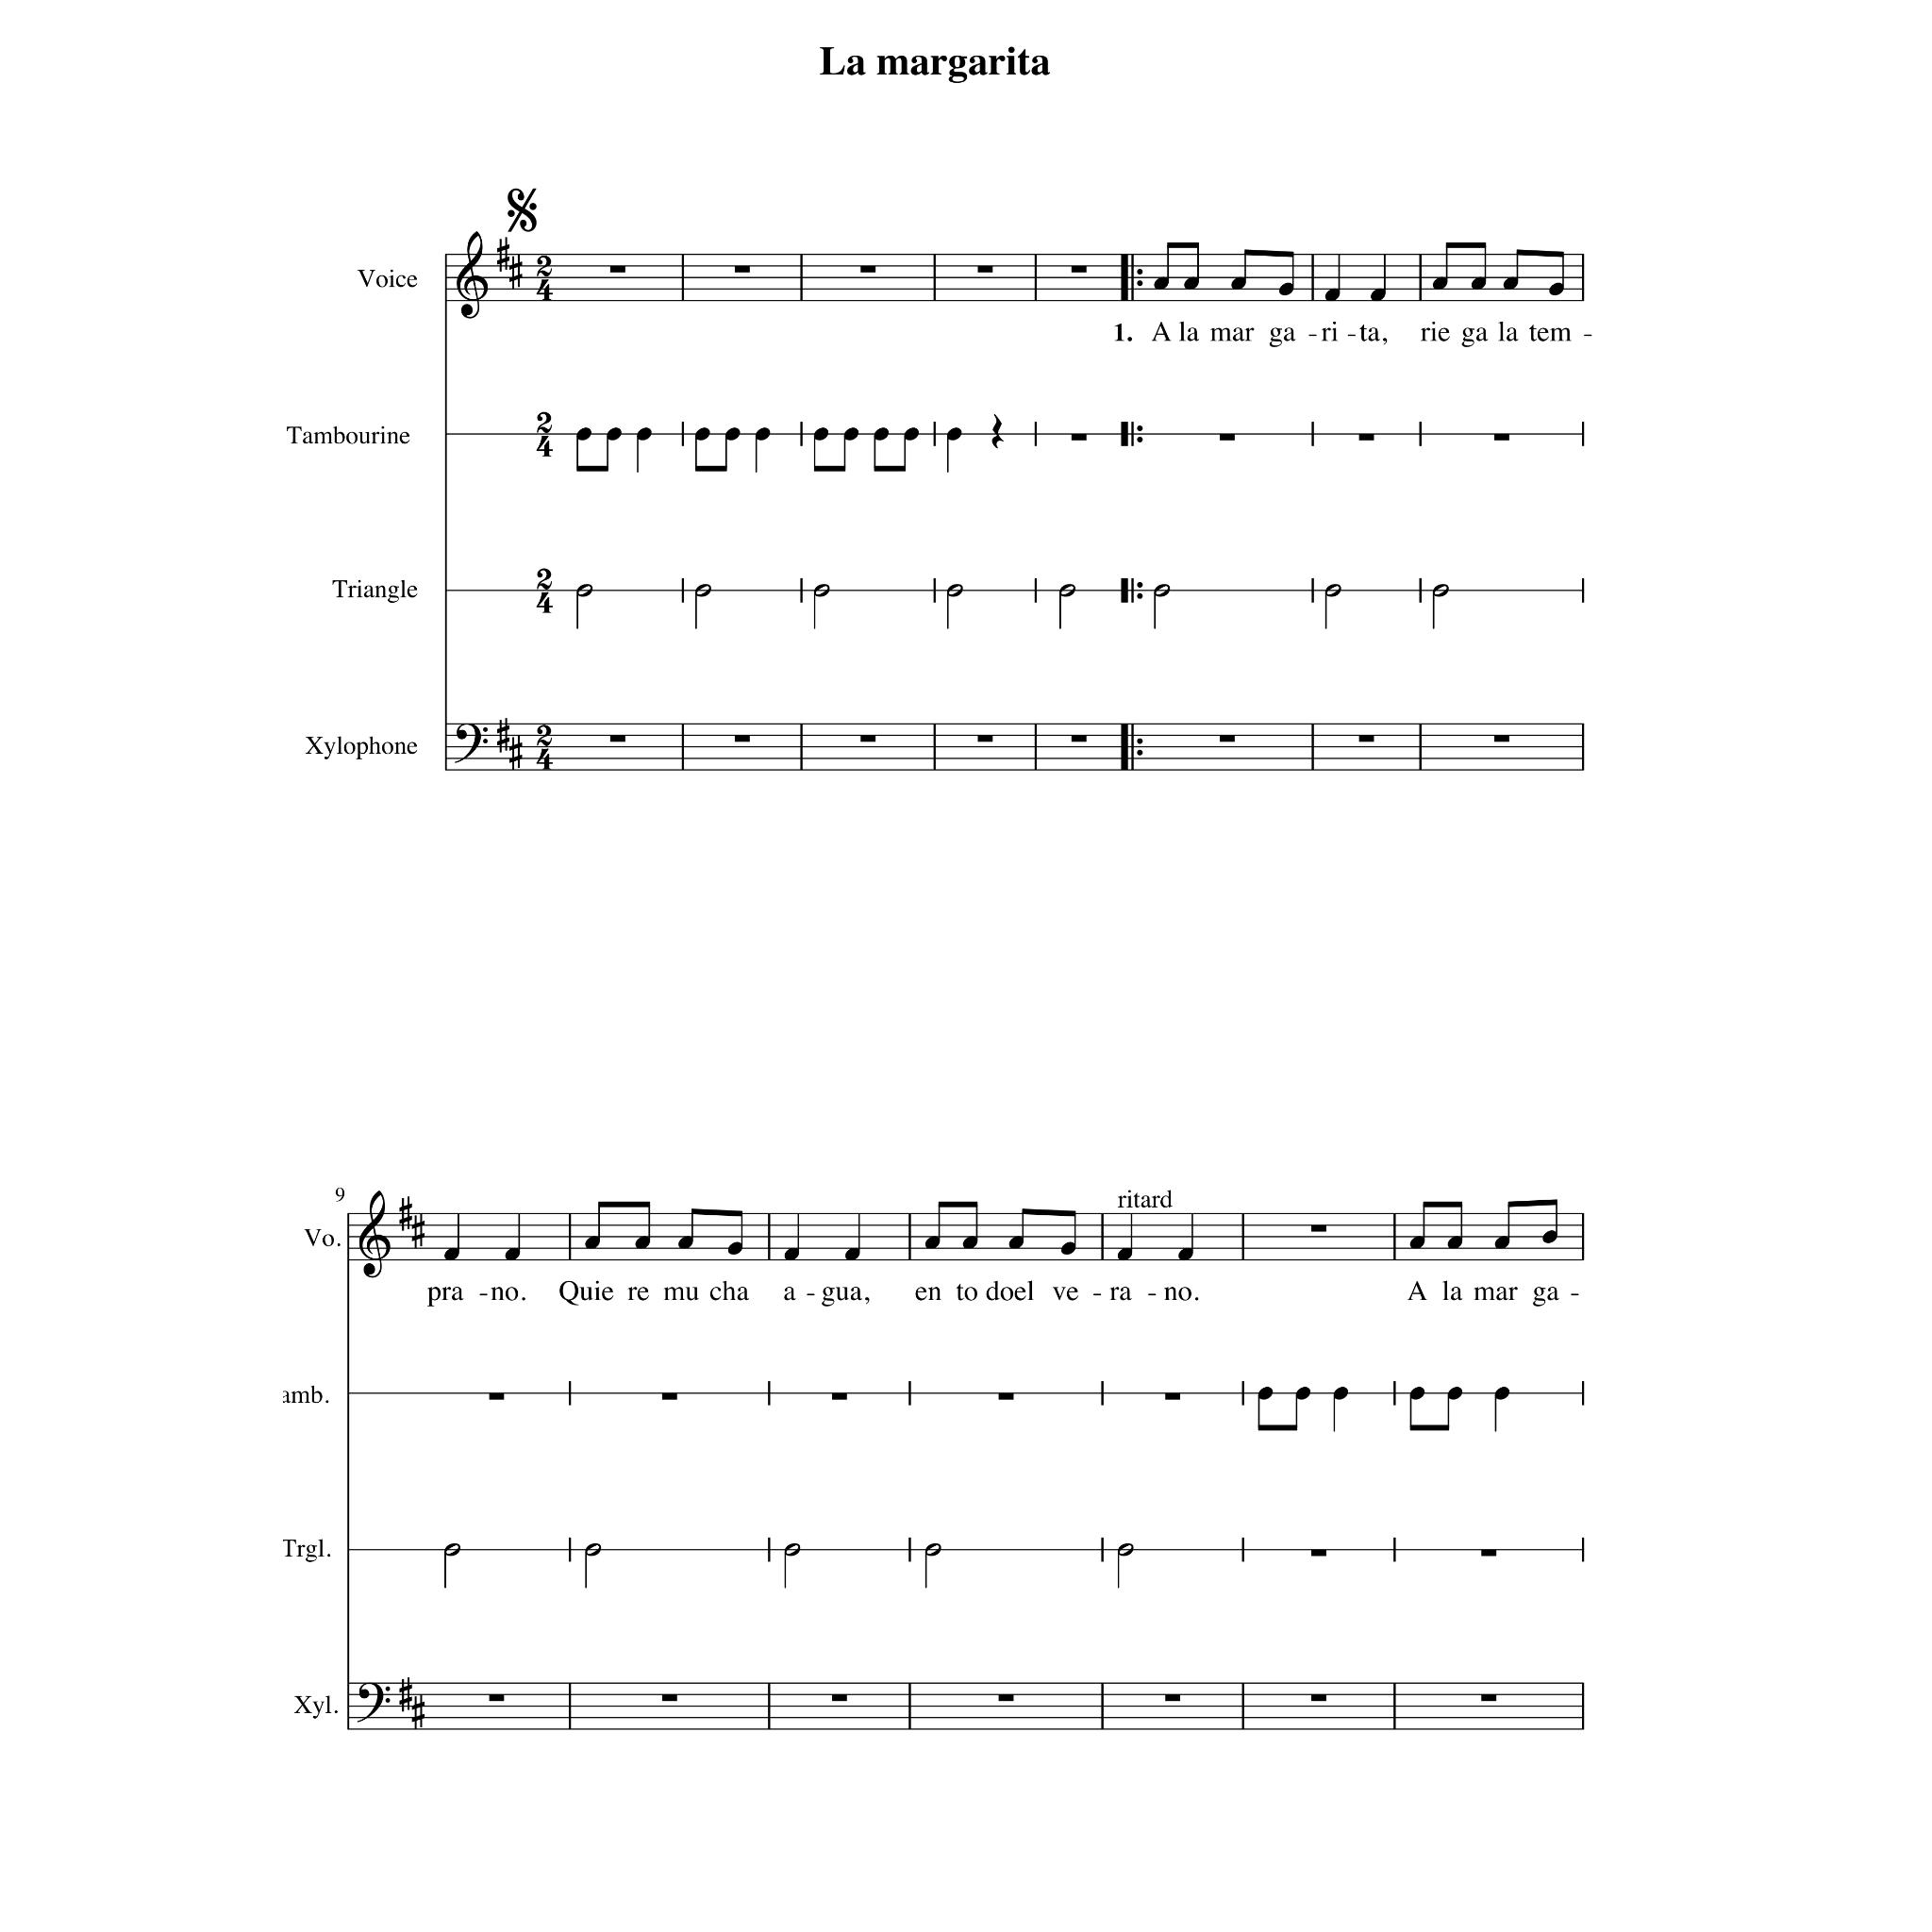fClef: (454, 723, 488, 764), (357, 1683, 391, 1723)
gClef: (456, 231, 488, 320), (358, 1190, 391, 1278)
noteheadBlack: (636, 426, 653, 441), (606, 426, 623, 441), (945, 426, 962, 441), (694, 426, 709, 441), (755, 426, 770, 441), (813, 426, 828, 441), (724, 426, 740, 441), (576, 426, 591, 441), (874, 426, 889, 441), (843, 426, 858, 441), (904, 426, 919, 441), (1370, 289, 1387, 302), (1153, 277, 1170, 291), (1230, 277, 1247, 291), (1277, 283, 1294, 296), (1183, 277, 1200, 291), (1470, 277, 1487, 291), (1502, 277, 1519, 291), (1332, 1387, 1349, 1400), (1257, 1387, 1274, 1400), (1177, 1248, 1194, 1261), (1541, 1230, 1558, 1243), (726, 1242, 743, 1256), (677, 1236, 694, 1249), (634, 1236, 651, 1249), (504, 1248, 521, 1261), (1008, 1236, 1024, 1249), (783, 1248, 800, 1261), (1432, 277, 1447, 291), (1324, 289, 1340, 302), (1549, 283, 1564, 296), (1409, 1387, 1424, 1400), (1409, 1236, 1424, 1249), (1295, 1387, 1310, 1400), (1494, 1387, 1509, 1400), (1494, 1236, 1509, 1249), (1447, 1387, 1462, 1400), (1447, 1236, 1462, 1249), (585, 1236, 600, 1249), (444, 1248, 459, 1261), (1117, 1248, 1132, 1261), (924, 1236, 940, 1249), (1060, 1242, 1075, 1256), (962, 1236, 977, 1249), (845, 1248, 860, 1261)
noteheadHalf: (1324, 583, 1341, 598), (1154, 583, 1171, 598), (1432, 583, 1449, 598), (694, 583, 711, 598), (576, 583, 593, 598), (813, 583, 830, 598), (946, 583, 963, 598), (1058, 583, 1075, 598), (1117, 1543, 1134, 1557), (584, 1543, 601, 1557), (443, 1543, 460, 1557), (924, 1543, 941, 1557), (784, 1543, 801, 1557)
restQuarter: (991, 413, 1004, 449)
restWhole: (1219, 735, 1236, 742), (609, 266, 626, 274), (1219, 434, 1236, 441), (1492, 735, 1509, 742), (1492, 434, 1509, 441), (609, 735, 626, 742), (1164, 1392, 1181, 1400), (1164, 1694, 1181, 1702), (830, 1392, 847, 1400), (660, 1392, 677, 1400), (660, 1694, 677, 1702), (830, 1694, 847, 1702), (1358, 434, 1374, 441), (1358, 735, 1374, 742), (977, 266, 992, 274), (734, 266, 749, 274), (734, 735, 749, 742), (860, 266, 875, 274), (860, 735, 875, 742), (977, 735, 992, 742), (1072, 266, 1087, 274), (1072, 434, 1087, 441), (1072, 735, 1087, 742), (1311, 1224, 1326, 1232), (1311, 1549, 1326, 1557), (1311, 1694, 1326, 1702), (998, 1392, 1013, 1400), (998, 1694, 1013, 1702), (1481, 1694, 1496, 1702), (1481, 1549, 1496, 1557), (489, 1694, 504, 1702), (489, 1392, 504, 1400)
